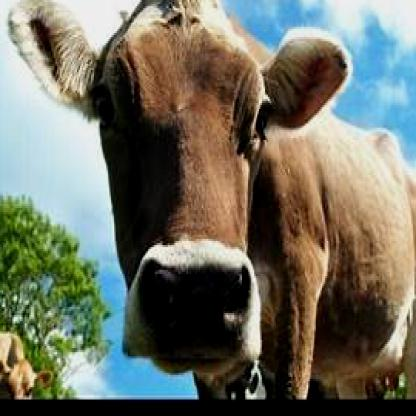cow: (5, 0, 414, 402)
